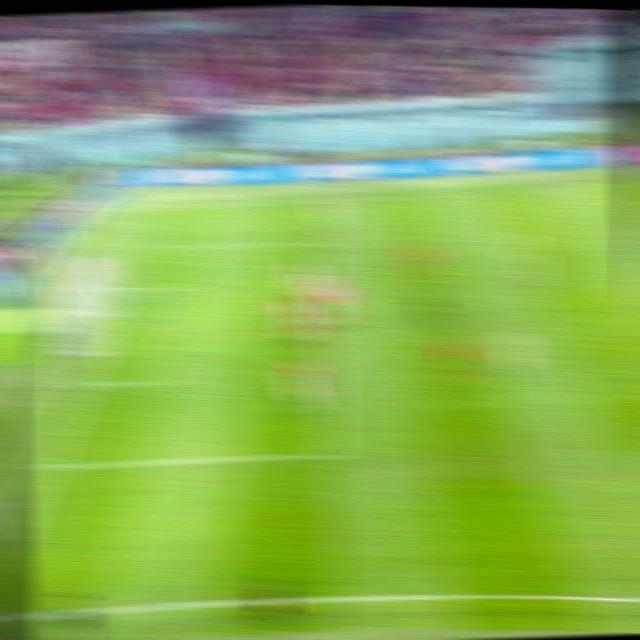bigarea_bottom_inner: (314, 444, 346, 463)
bigarea_bottom_outter: (31, 458, 60, 478)
bigarea_top_inner: (311, 239, 334, 249)
bigarea_top_outter: (130, 243, 151, 252)
bottom_arc_area_intersection: (312, 356, 342, 373)
corner: (147, 203, 171, 211)
smallarea_bottom_inner: (150, 370, 180, 389)
smallarea_bottom_outter: (66, 376, 95, 392)
smallarea_top_inner: (176, 281, 202, 294)
smallarea_top_outter: (110, 281, 136, 296)
